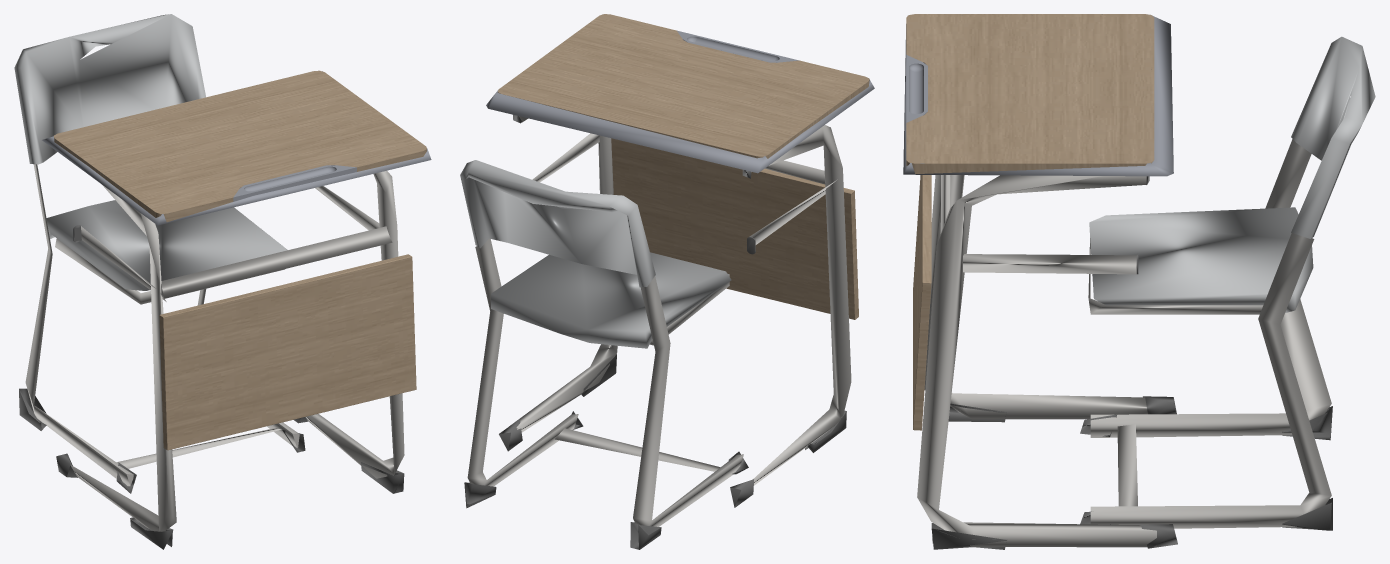
File: Desks_and_chairs.glb
3 renders of one model, left to right at view 1: azimuth 30°, elevation 25°; view 2: azimuth 150°, elevation 25°; view 3: azimuth 270°, elevation 25°, orthographic. The views are drawn at different scales.
Parts seen in each view (by area): view 1: Obj3d66-1298017-24-367, Obj3d66-1298017-25-313, Obj3d66-1298017-3-299, Obj3d66-1298017-17-966, Obj3d66-1298017-1-158; view 2: Obj3d66-1298017-24-367, Obj3d66-1298017-25-313, Obj3d66-1298017-3-299, Obj3d66-1298017-17-966, Obj3d66-1298017-1-158; view 3: Obj3d66-1298017-3-299, Obj3d66-1298017-24-367, Obj3d66-1298017-25-313, Obj3d66-1298017-17-966, Obj3d66-1298017-1-158.
Part boxes in pixels (bbox=[...]): Obj3d66-1298017-24-367: bbox=[54, 70, 426, 450]; Obj3d66-1298017-25-313: bbox=[14, 14, 287, 290]; Obj3d66-1298017-3-299: bbox=[25, 164, 404, 531]; Obj3d66-1298017-17-966: bbox=[42, 71, 431, 225]; Obj3d66-1298017-1-158: bbox=[19, 225, 404, 549]; Obj3d66-1298017-24-367: bbox=[497, 14, 869, 319]; Obj3d66-1298017-25-313: bbox=[460, 160, 731, 348]; Obj3d66-1298017-3-299: bbox=[467, 116, 851, 526]; Obj3d66-1298017-17-966: bbox=[486, 30, 874, 173]; Obj3d66-1298017-1-158: bbox=[464, 115, 846, 549]; Obj3d66-1298017-3-299: bbox=[917, 139, 1331, 547]; Obj3d66-1298017-24-367: bbox=[906, 14, 1154, 430]; Obj3d66-1298017-25-313: bbox=[1089, 36, 1375, 312]; Obj3d66-1298017-17-966: bbox=[903, 14, 1173, 176]; Obj3d66-1298017-1-158: bbox=[931, 176, 1332, 549].
Bounding box in the file's own units: 0.8959 × 1.11 × 1.17.
Materials: 5 (1 with a texture image).
